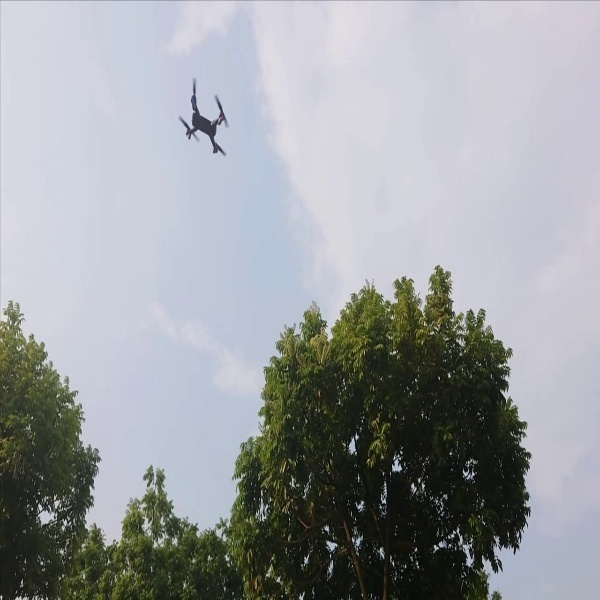drone: (166, 73, 240, 165)
